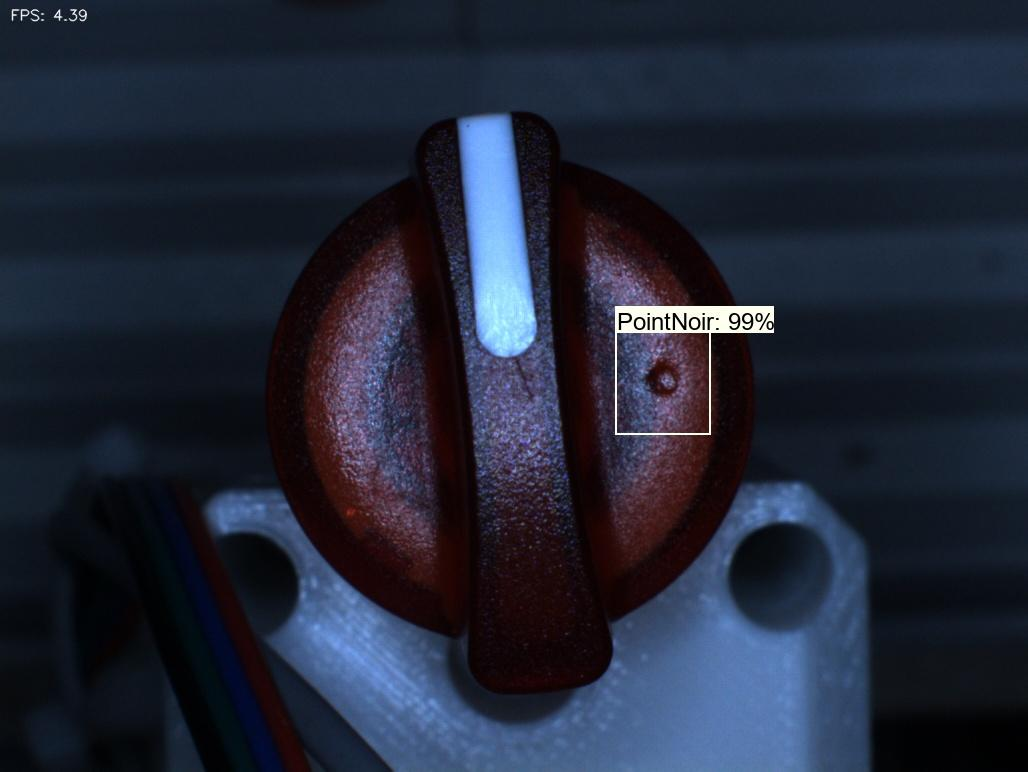Choc: (621, 340, 699, 429)
